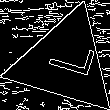L_W: (35, 40, 94, 85)
